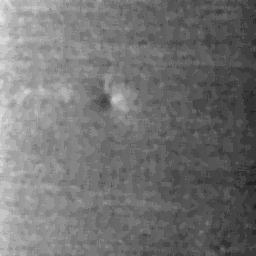dent: (85, 83, 130, 120)
